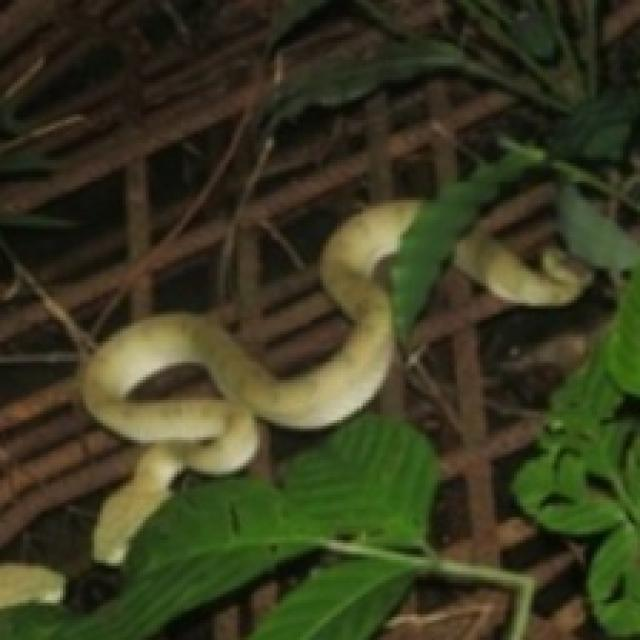north ph temple pitviper: (80, 200, 417, 563), (460, 234, 586, 303)
